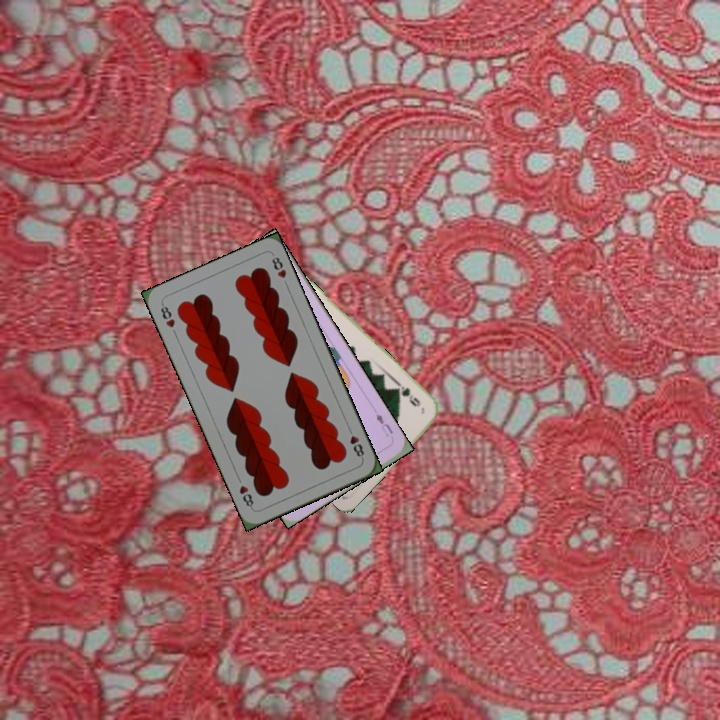EU: (372, 409, 395, 439)
G9: (392, 379, 423, 409)
H8: (344, 423, 367, 462), (156, 299, 178, 330)
